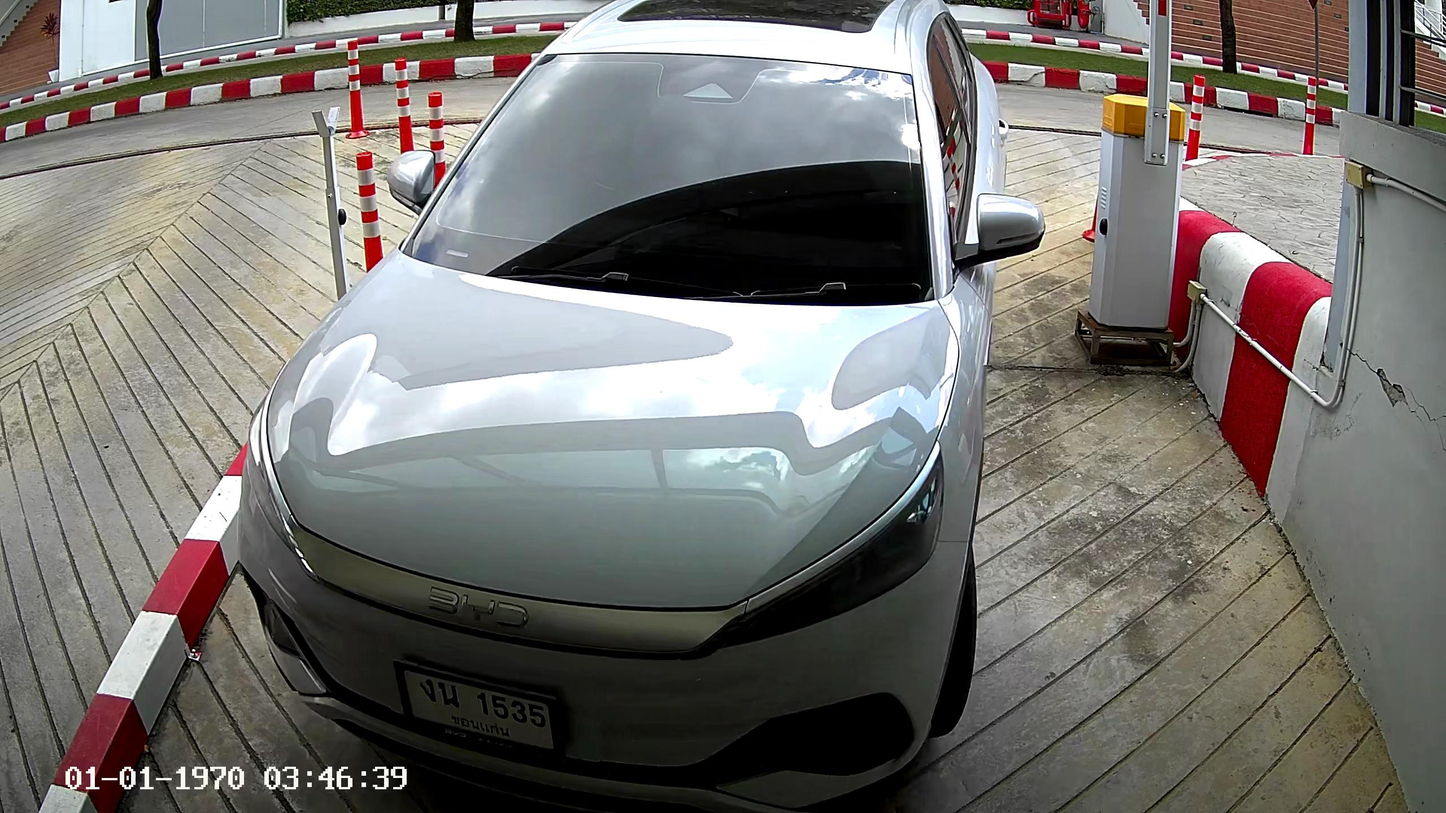car: (233, 5, 1047, 813)
license-plate: (391, 653, 563, 759)
